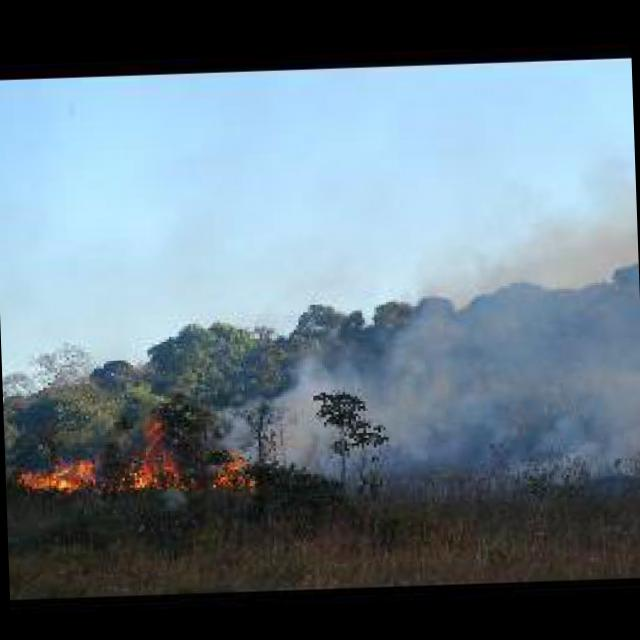fire: (115, 419, 191, 488), (18, 451, 102, 491), (211, 448, 262, 494)
smoke: (206, 217, 640, 457)
